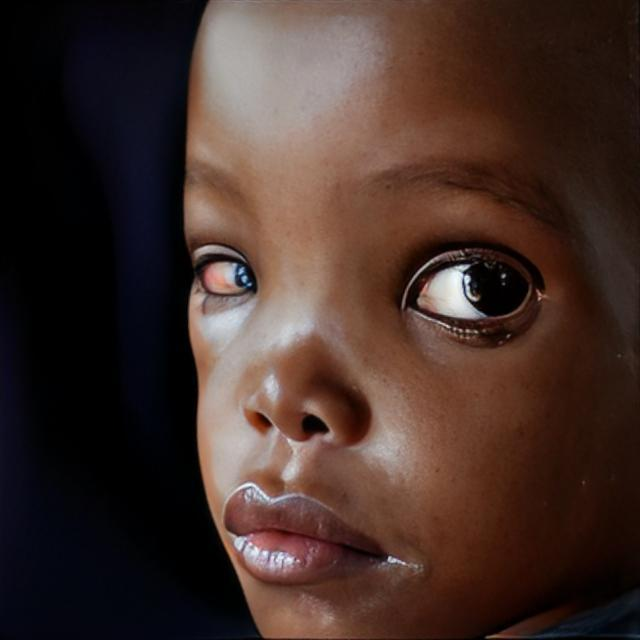neutral: (178, 0, 640, 640)
